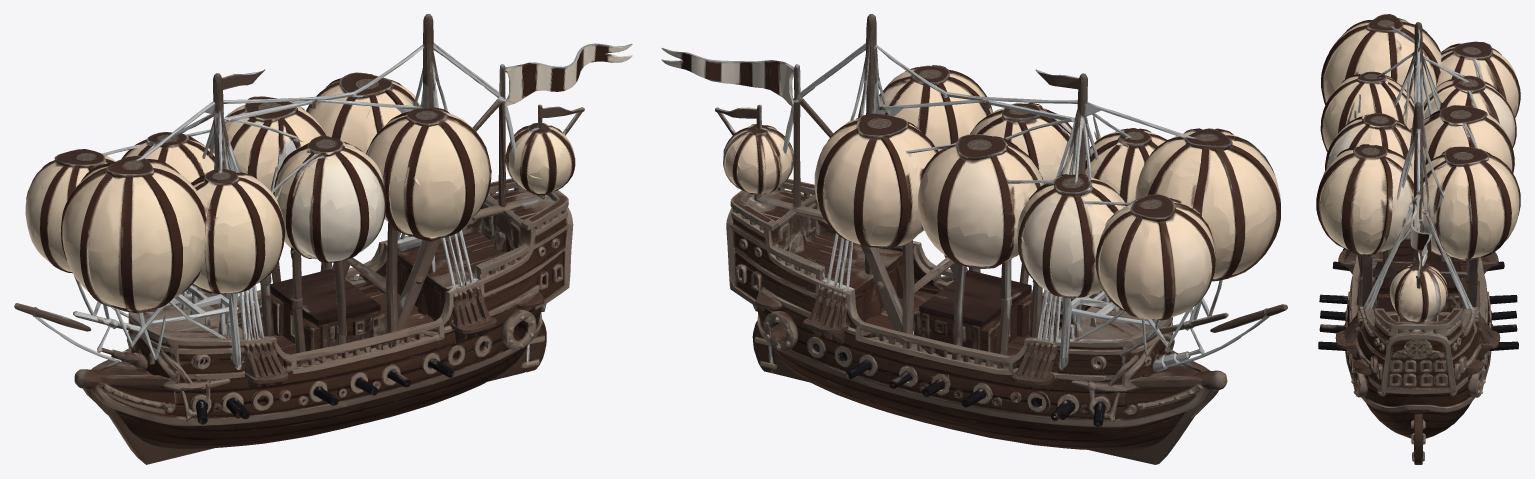
3 renders of one model, left to right at view 1: azimuth 30°, elevation 25°; view 2: azimuth 150°, elevation 25°; view 3: azimuth 270°, elevation 25°, orthographic. The views are drawn at different scales.
Visible parts, largest first — view 1: Mesh_0; view 2: Mesh_0; view 3: Mesh_0.
Boxes of the visible parts, left/top/right/bottom form: Mesh_0: left=14, top=14, right=632, bottom=464; Mesh_0: left=661, top=14, right=1287, bottom=464; Mesh_0: left=1316, top=14, right=1520, bottom=464.
Bounding box in the file's own units: 1.9 × 1.11 × 0.6449.
Materials: 1 (1 with a texture image).
